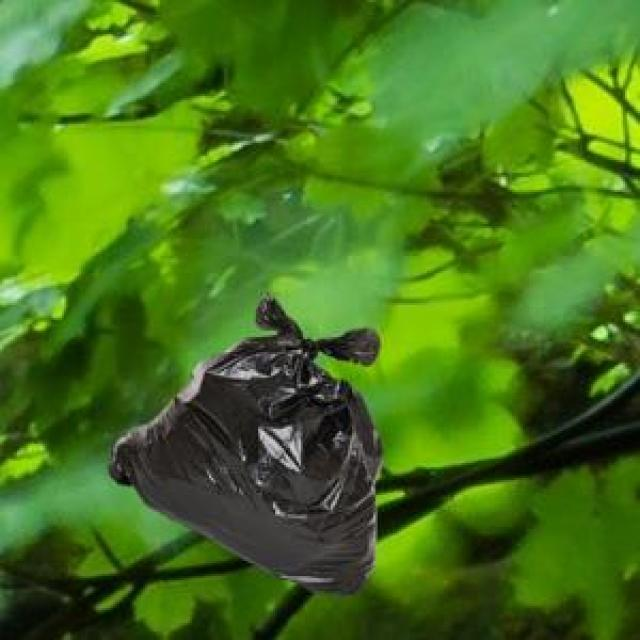Trashbag: (97, 294, 444, 598)
